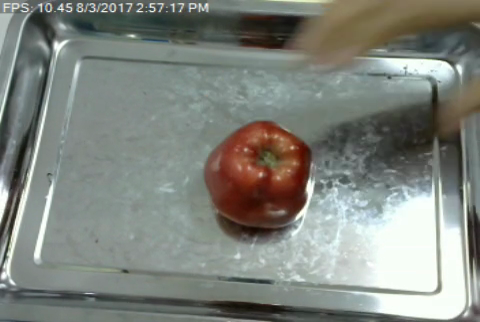Apple: (198, 118, 317, 230)
